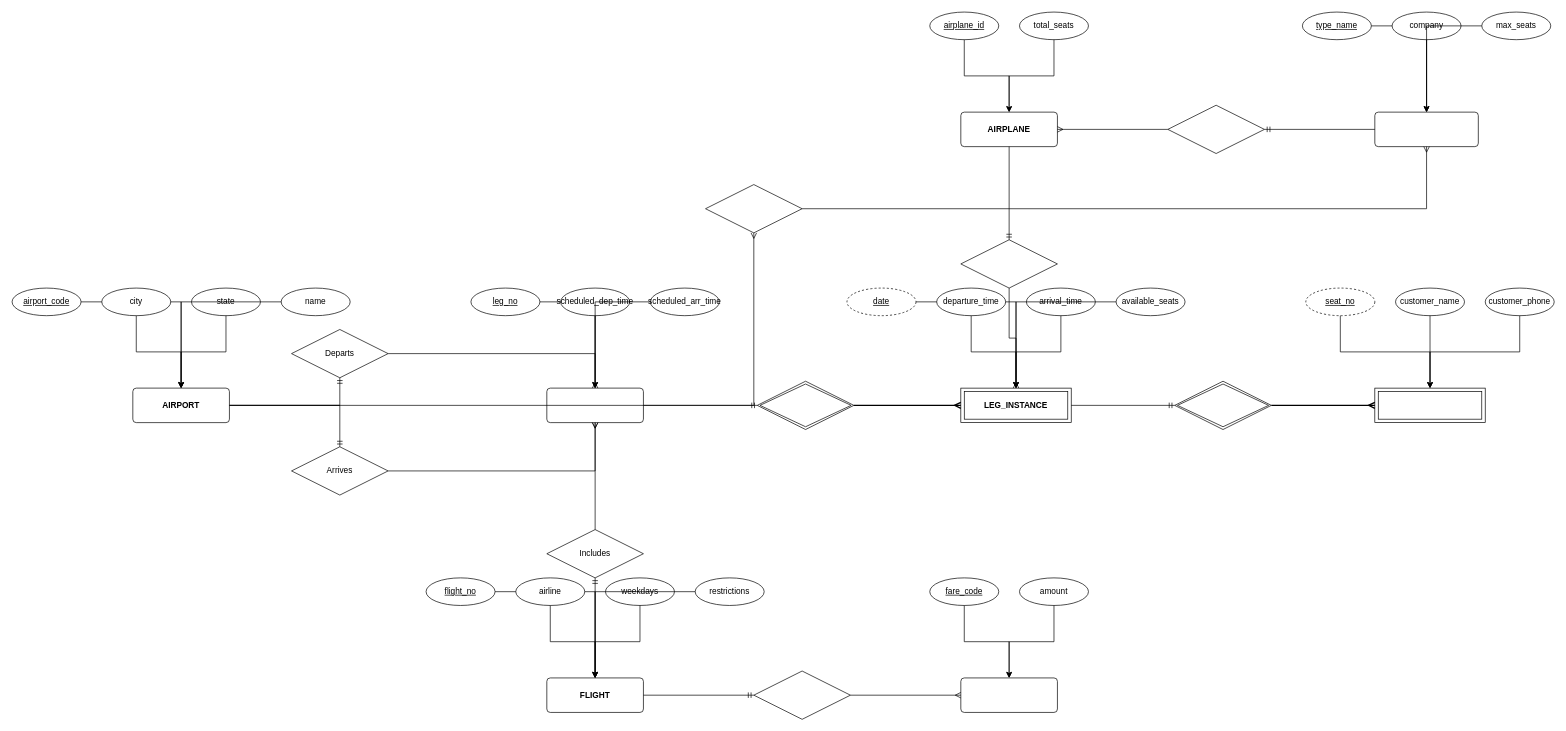
Image size: 1566x731. Some labels were removed from this diagram. The centre of each missing label's shape, as x and y in pixels:
AIRPLANE_TYPE: pixel 1426 129
Assigned_To: pixel 1008 263
Can_Land: pixel 753 208
FARE: pixel 1008 694
FLIGHT_LEG: pixel 594 405
Has_Fare: pixel 801 694
Has_Reservation: pixel 1222 405
Occurs_As: pixel 805 405
Of_Type: pixel 1215 129
RESERVATION: pixel 1429 405
